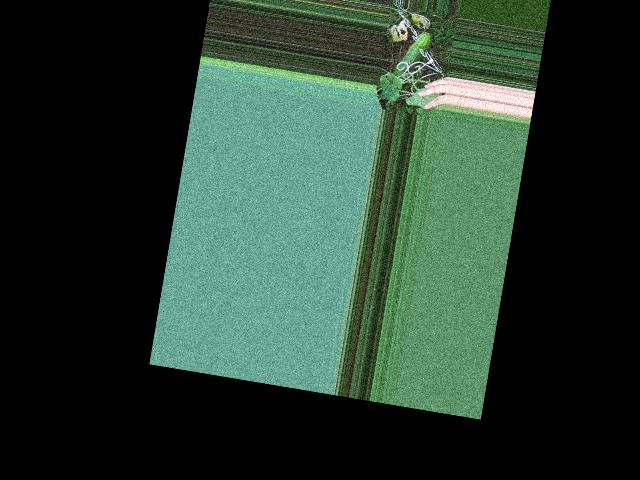cucumber: (392, 28, 433, 81)
